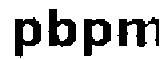b: (46, 6, 77, 50)
m: (114, 15, 160, 50)
p: (8, 16, 42, 60), (83, 16, 112, 60)
